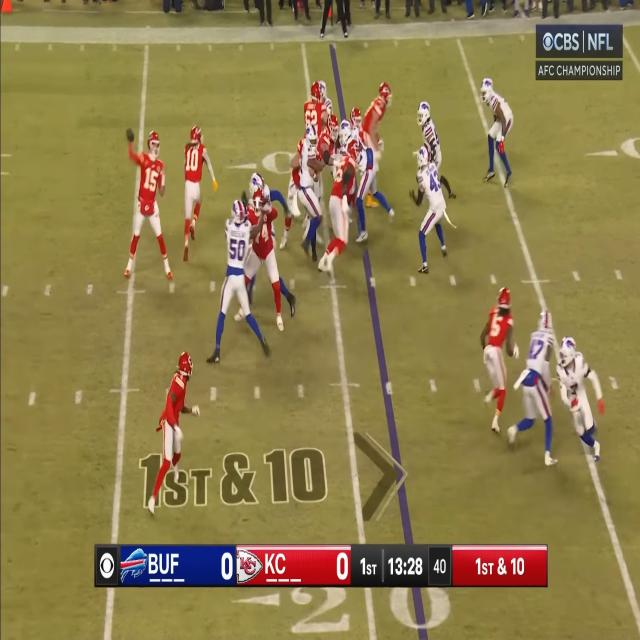Ball: (126, 128, 134, 141)
